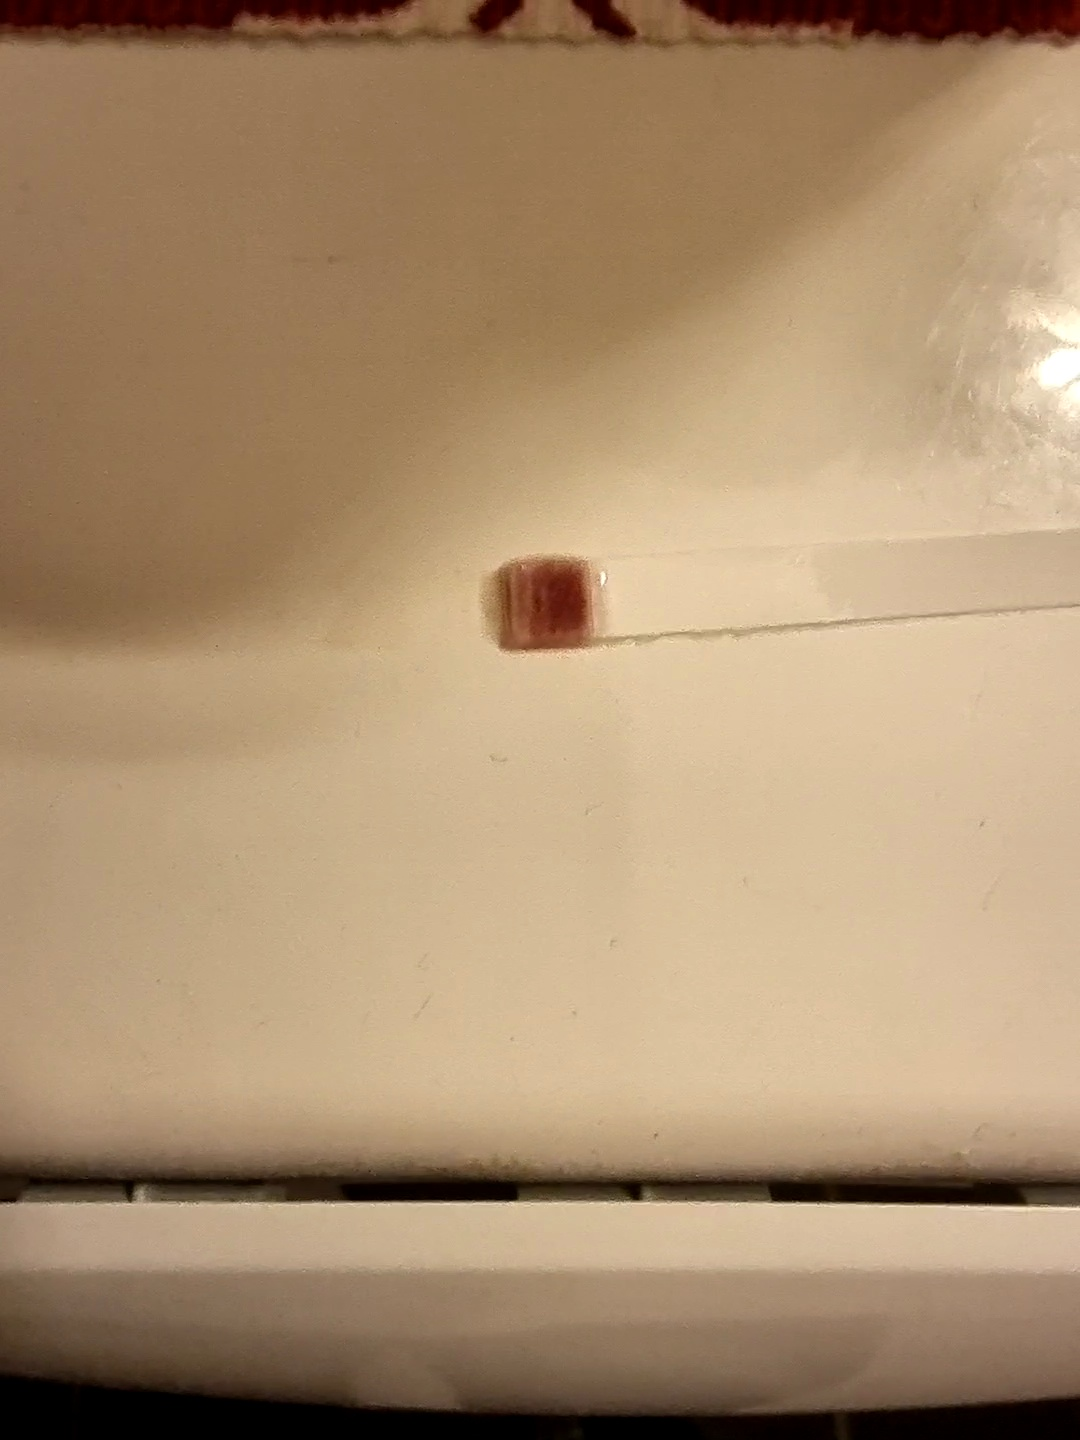keto-tip: (490, 553, 604, 660)
